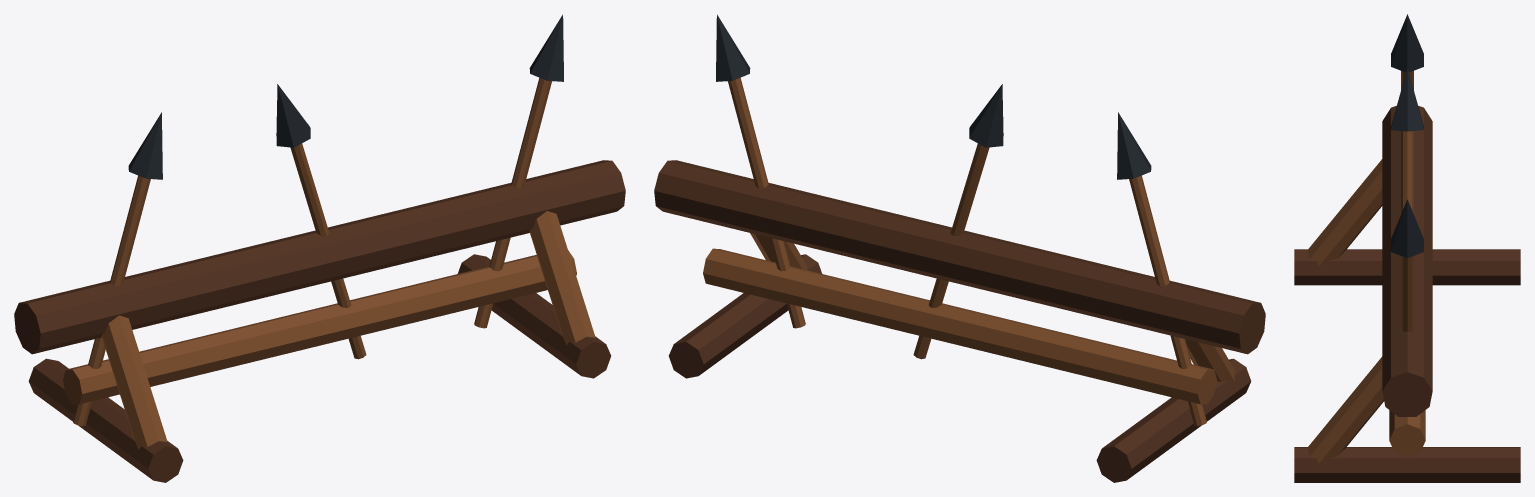
The model's file is battle_spiked_field_barricade_LOD1.glb.
The picture shows the model from 3 angles, left to right: view 1: azimuth 30°, elevation 25°; view 2: azimuth 150°, elevation 25°; view 3: azimuth 270°, elevation 25°; orthographic projection. The views are drawn at different scales.
Parts seen in each view (by area): view 1: battle_spiked_field_barricade_LOD1; view 2: battle_spiked_field_barricade_LOD1; view 3: battle_spiked_field_barricade_LOD1.
Boxes of the visible parts, x1,y1,x2,y2 form: battle_spiked_field_barricade_LOD1: (14,14,625,482); battle_spiked_field_barricade_LOD1: (654,14,1265,482); battle_spiked_field_barricade_LOD1: (1294,14,1520,482).
Size of the model in its own units: 3.5 by 1.79 by 1.24.
